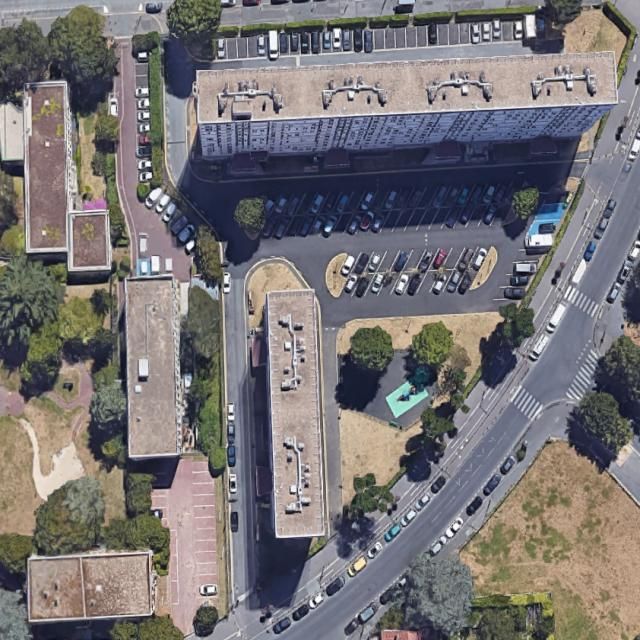immeuble: (192, 47, 619, 159), (259, 289, 327, 538), (0, 79, 86, 258), (119, 274, 184, 459), (26, 550, 157, 622), (65, 206, 112, 278)
